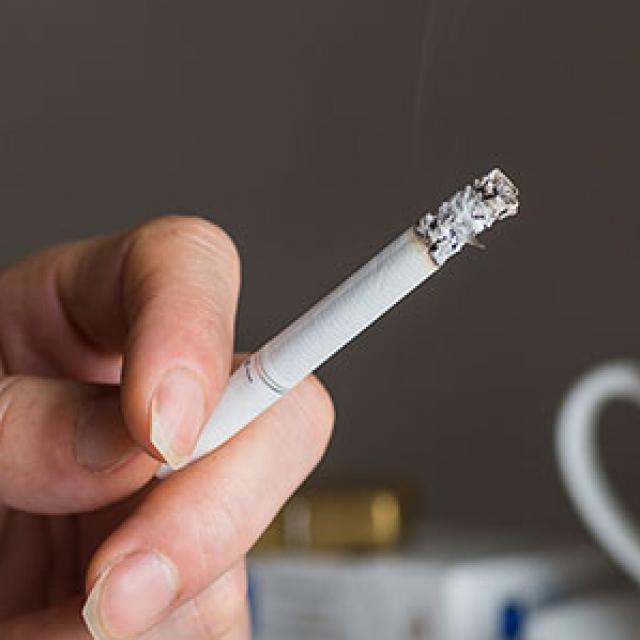smoking: (156, 168, 521, 480)
